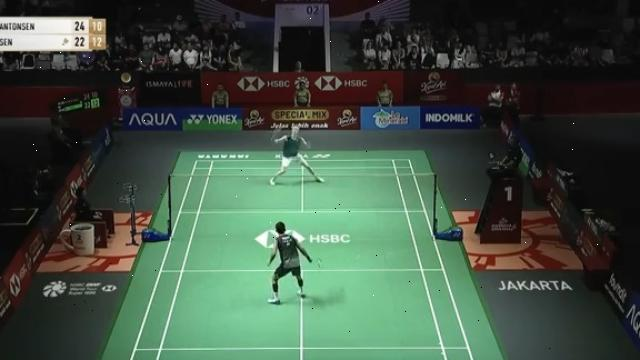Shuttlecock: (300, 113, 310, 121)
